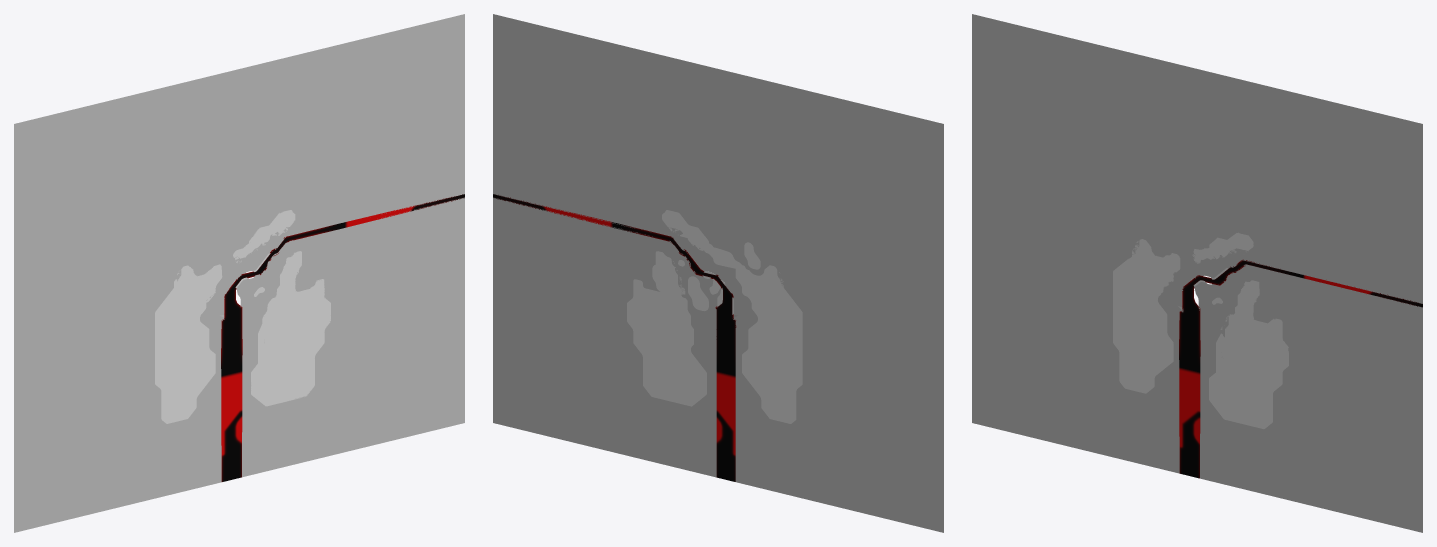
File: Zurich.glb
3 views of the same model, side by side, from view 1: azimuth 30°, elevation 25°; view 2: azimuth 150°, elevation 25°; view 3: azimuth 330°, elevation 25° (orthographic).
Visible parts, largest first — view 1: Zurich_Land, Zurich_Mountain_Shader, Zurich_Water, MountainShadows; view 2: Zurich_Land, Zurich_Water, Zurich_Mountain_A_Base, Zurich_Mountain_B_Top, Zurich_Mountain_B_Base, Zurich_Mountain_A_Top, Zurich_Mountain_B_Mid, Zurich_Mountain_A_Mid, Zurich_Mountain_C_Base; view 3: Zurich_Land, Zurich_Mountain_Shader, Zurich_Water.
Part boxes in pixels (box(x1,y1,x2,y2)): Zurich_Land: box(14, 14, 464, 532); Zurich_Mountain_Shader: box(155, 210, 330, 423); Zurich_Water: box(221, 194, 464, 481); MountainShadows: box(174, 225, 315, 363); Zurich_Land: box(493, 14, 943, 532); Zurich_Water: box(493, 194, 736, 481); Zurich_Mountain_A_Base: box(627, 251, 706, 406); Zurich_Mountain_B_Top: box(741, 272, 797, 377); Zurich_Mountain_B_Base: box(735, 264, 802, 423); Zurich_Mountain_A_Top: box(638, 259, 684, 343); Zurich_Mountain_B_Mid: box(739, 268, 800, 380); Zurich_Mountain_A_Mid: box(636, 256, 687, 346); Zurich_Mountain_C_Base: box(662, 210, 722, 258); Zurich_Land: box(972, 14, 1422, 532); Zurich_Mountain_Shader: box(1113, 232, 1288, 429); Zurich_Water: box(1179, 259, 1422, 478).
Size of the model in its own units: 282 by 244 by 0.1467.
Materials: 9 (1 with a texture image).
